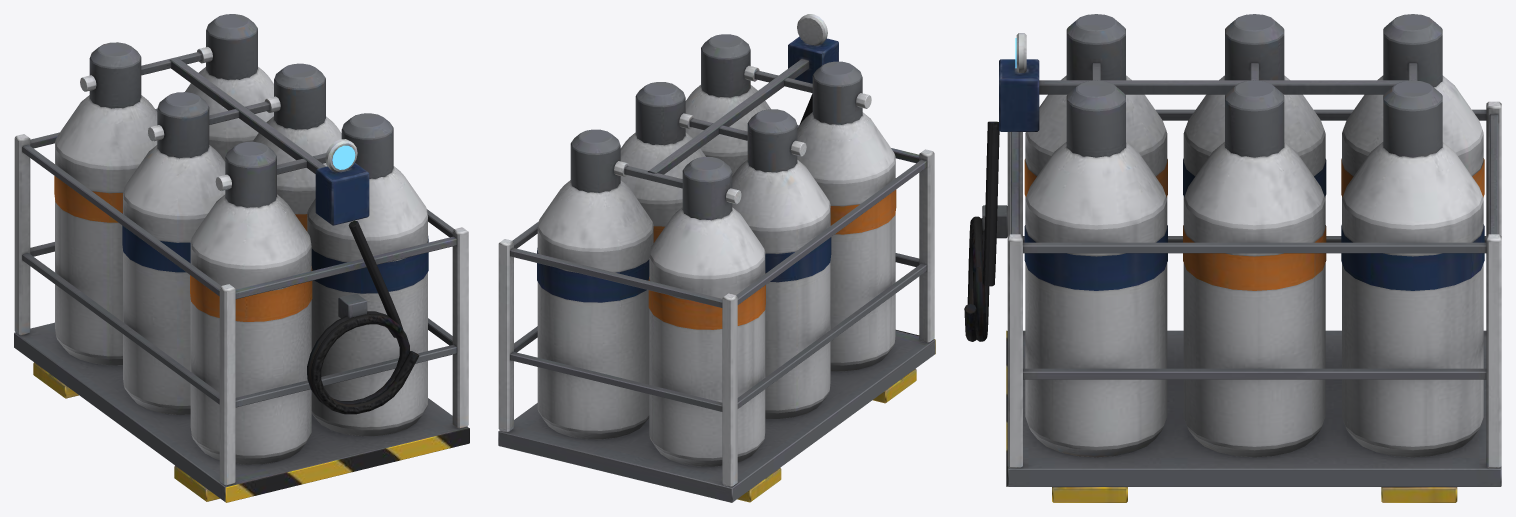
Rendered from 整備庫_35_氣瓶組.glb.
The picture shows the model from 3 angles, left to right: view 1: azimuth 30°, elevation 25°; view 2: azimuth 150°, elevation 25°; view 3: azimuth 270°, elevation 25°; orthographic projection. The views are drawn at different scales.
Parts seen in each view (by area): view 1: Bottles_Mesh; view 2: Bottles_Mesh; view 3: Bottles_Mesh.
Boxes of the visible parts, x1,y1,x2,y2 form: Bottles_Mesh: [14, 14, 469, 502]; Bottles_Mesh: [498, 14, 935, 502]; Bottles_Mesh: [964, 14, 1501, 502].
Size of the model in its own units: 2.6 by 3.48 by 4.24.
Materials: 2 (1 with a texture image).
